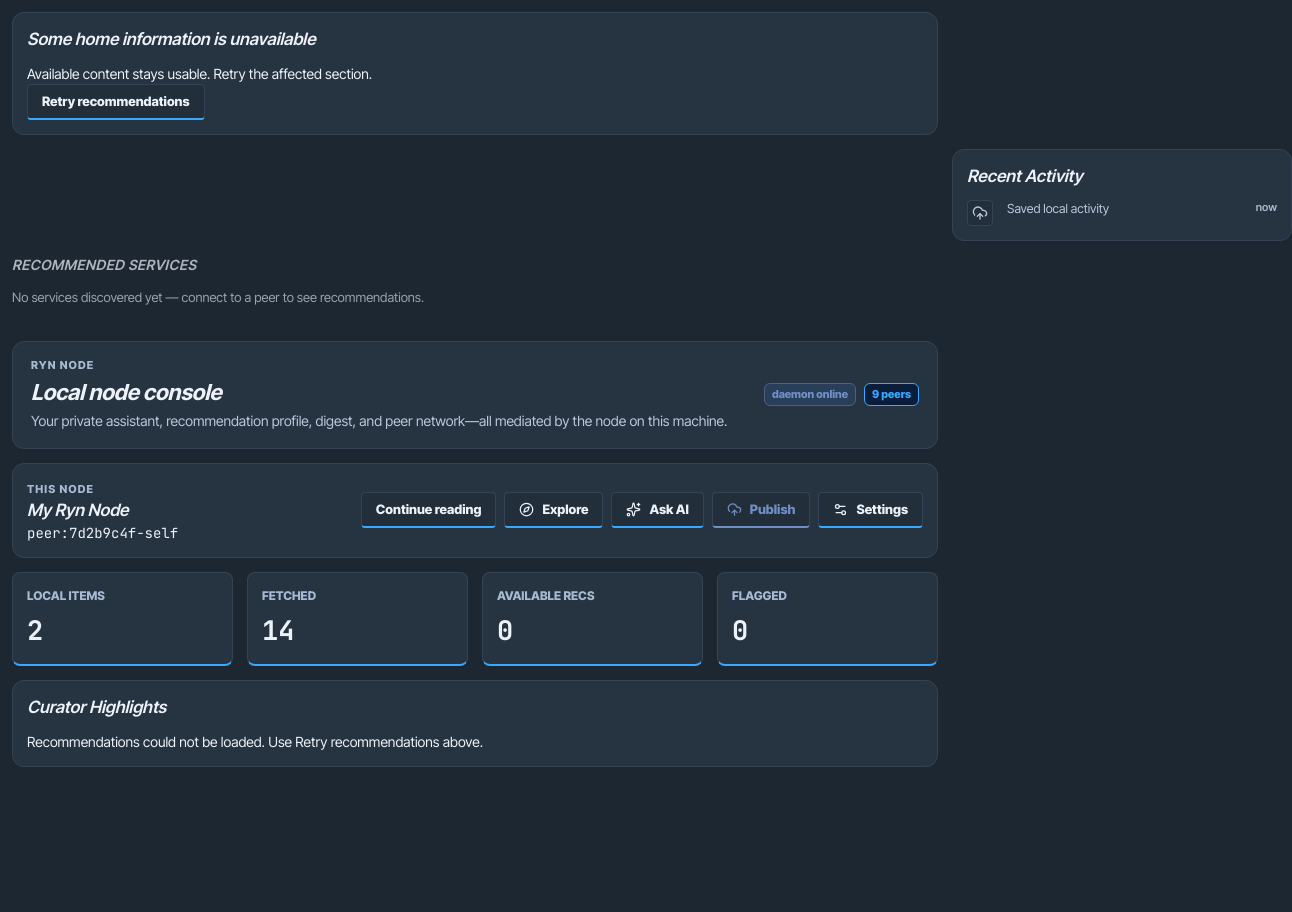
distinguishes unavailable recommendations from an empty list and recovers
Expected: the text "Saved local activity" is shown, [1007,201,1109,216]
What coordinates should you click on to do the following:
click the button "Retry recommendations"
I would click on:
 (116, 102)
Its box is [27,84,205,120].
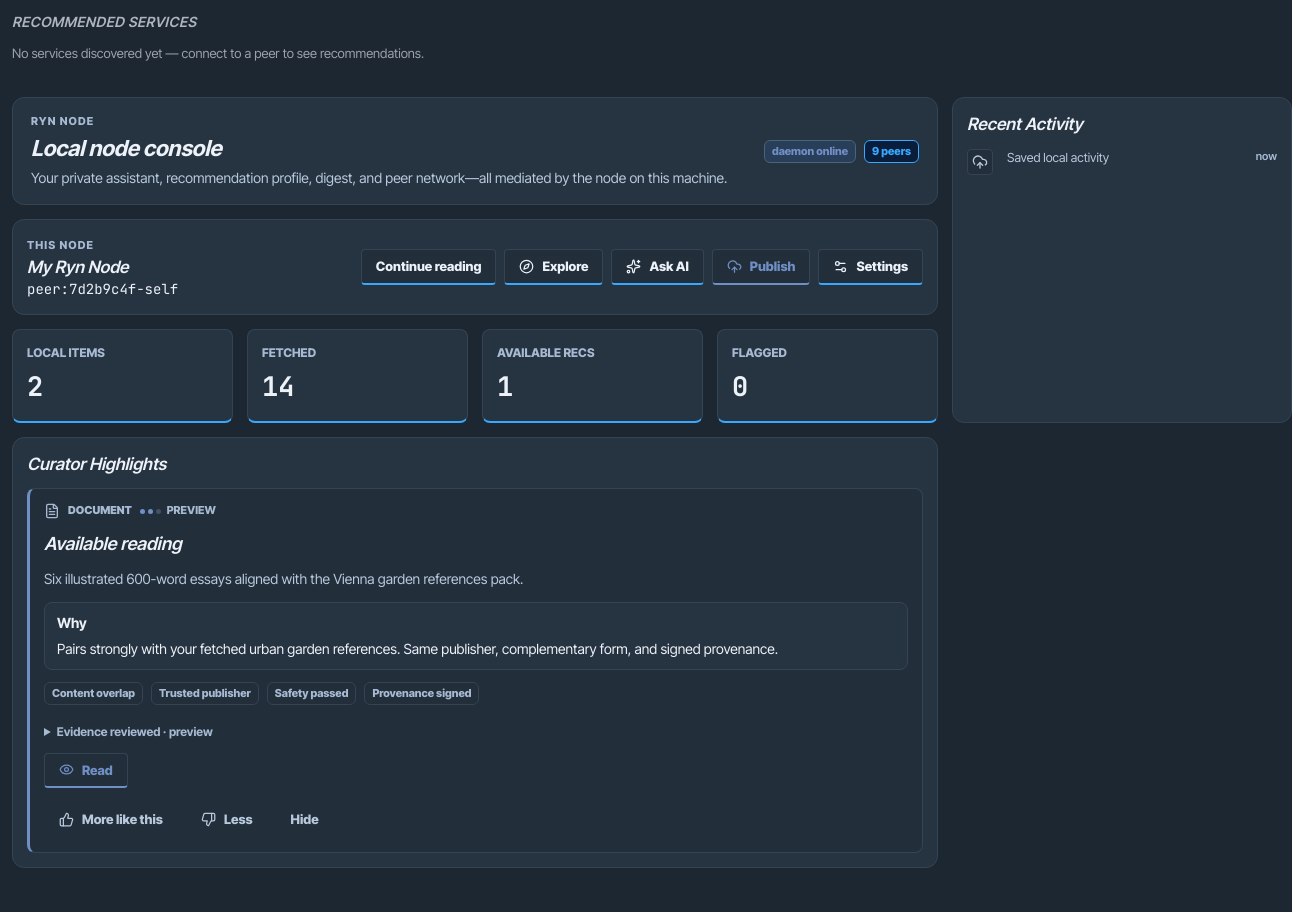
Now the heading "Available reading" is shown, box [44,533,182,554]
